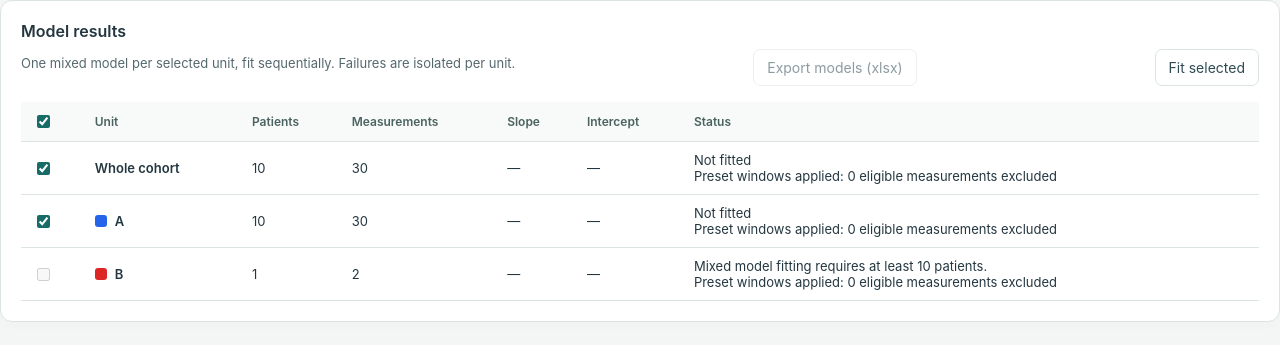
Test: CohortModelTable › fits all selected eligible units via the store and never the ineligible one
Click the button "Fit selected" at (1207, 68), box left=1154, top=49, right=1259, bottom=86
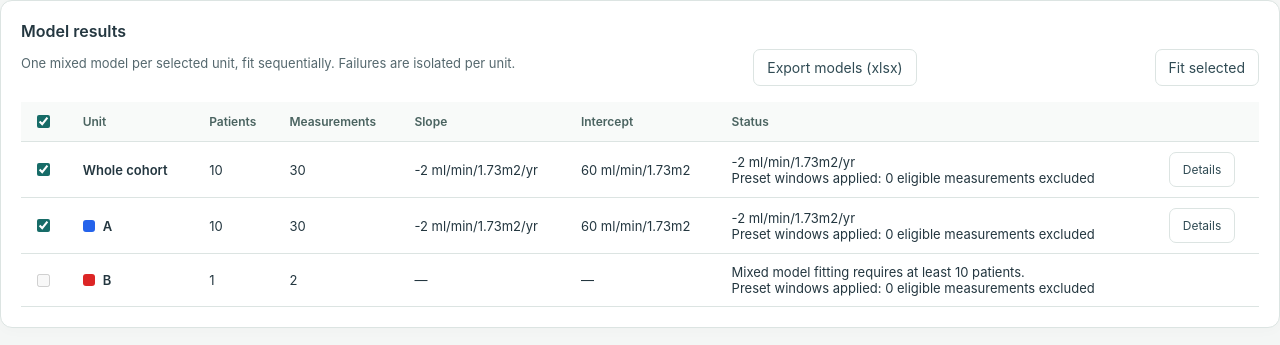
Result: the cell with test id "cohort-model-status" in the row of "Whole cohort" shows "-2 ml/min/1.73m2/yr" at left=732, top=154, right=855, bottom=170
Result: the 2nd cell with test id "cohort-model-status" shows "-2 ml/min/1.73m2/yr" at left=732, top=210, right=855, bottom=226
